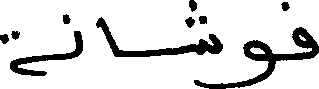ا: (96, 14, 118, 56)
ة: (0, 29, 51, 77)
ش: (181, 0, 221, 66)
ف: (279, 1, 317, 60)
ن: (62, 14, 83, 58)
و: (241, 37, 274, 87)
